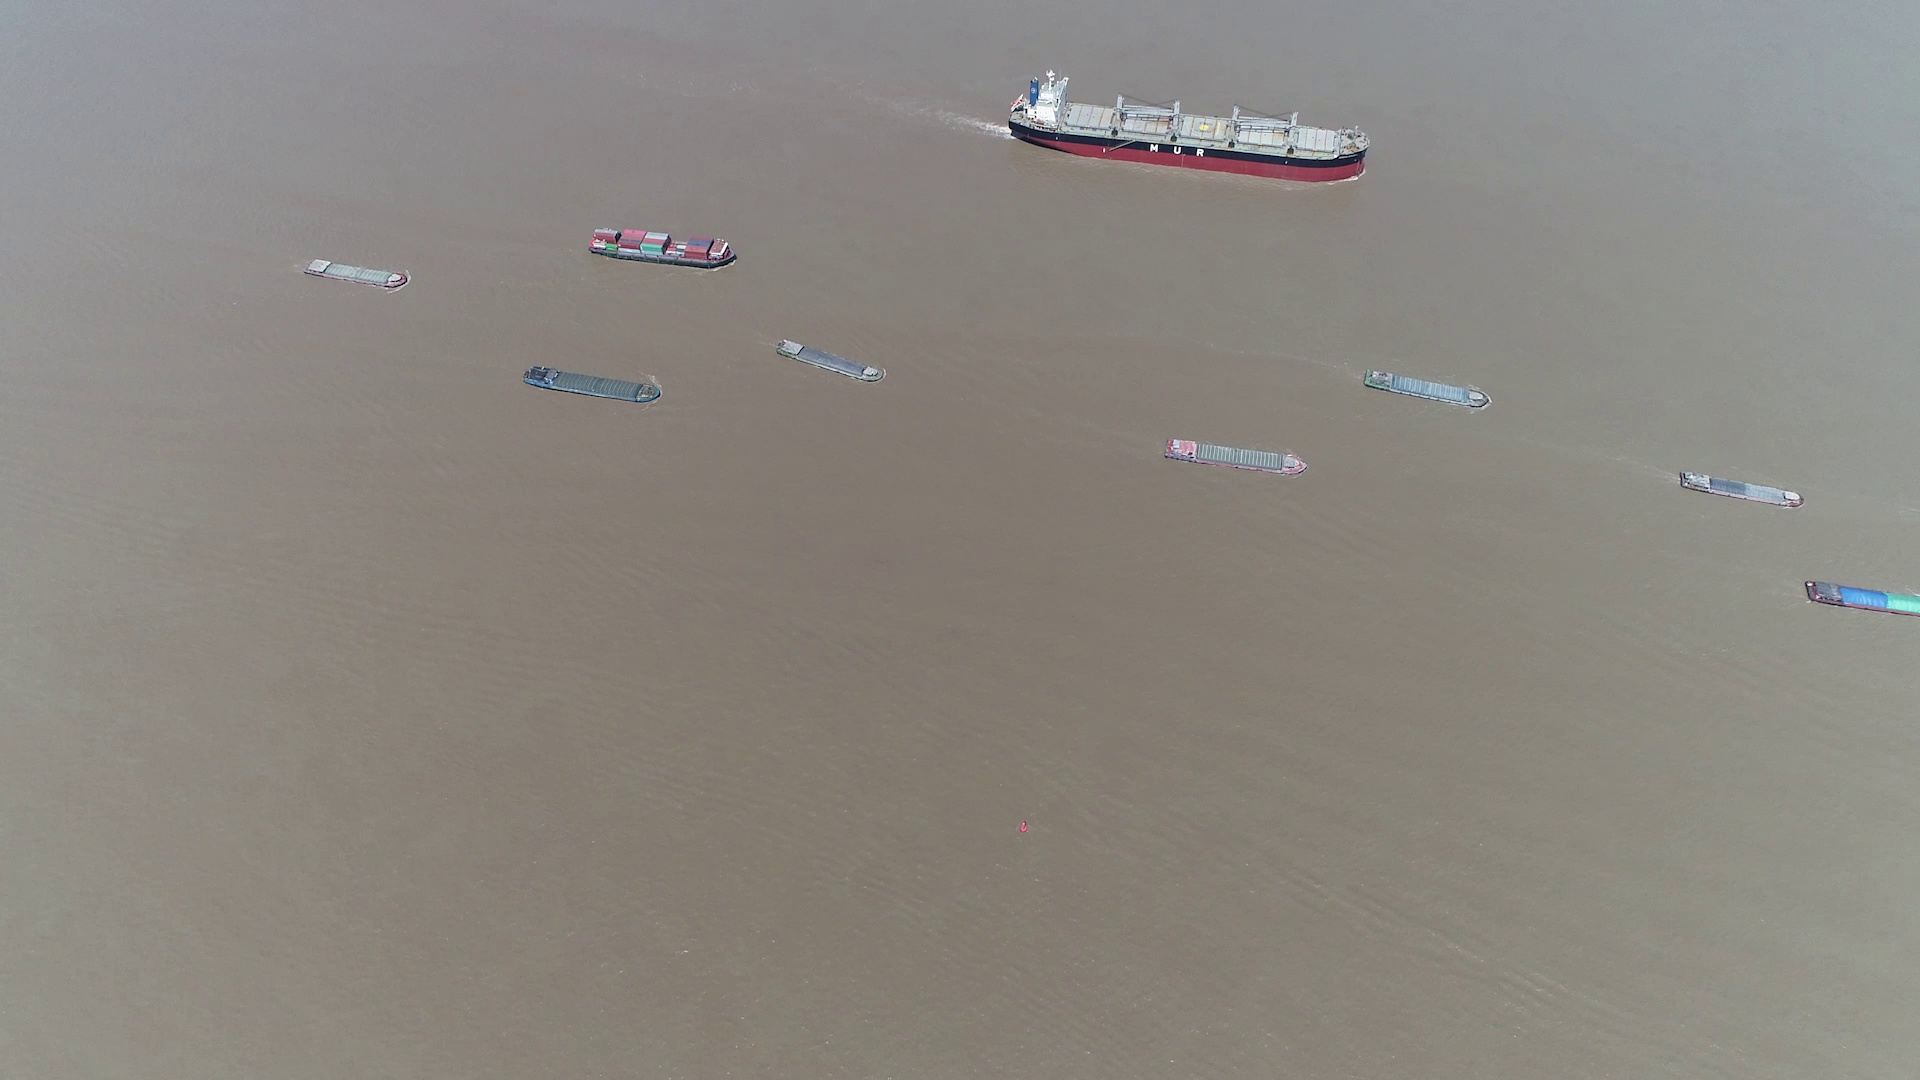ship: (1009, 73, 1367, 179), (589, 228, 737, 268), (1164, 436, 1307, 475), (1362, 368, 1490, 409), (524, 367, 661, 404), (777, 338, 886, 384), (1677, 471, 1807, 509), (1804, 579, 1919, 618), (305, 258, 410, 289)
